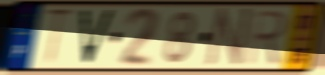2: (118, 6, 162, 69)
8: (163, 10, 198, 66)
N: (203, 6, 255, 70)
R: (244, 9, 289, 68)
T: (43, 7, 77, 68)
V: (77, 8, 117, 68)
